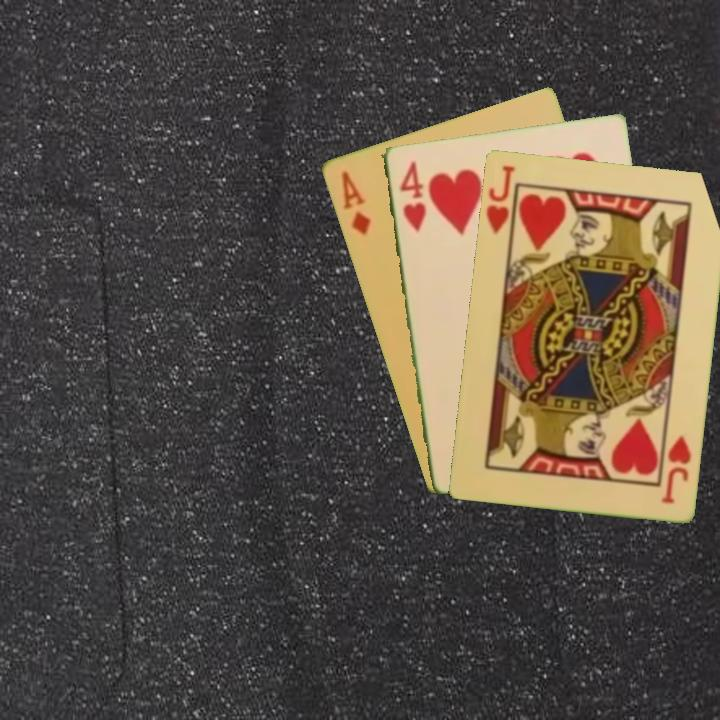4h: (396, 157, 428, 235)
Ad: (337, 167, 373, 238)
Jh: (482, 161, 521, 245), (657, 431, 694, 506)
